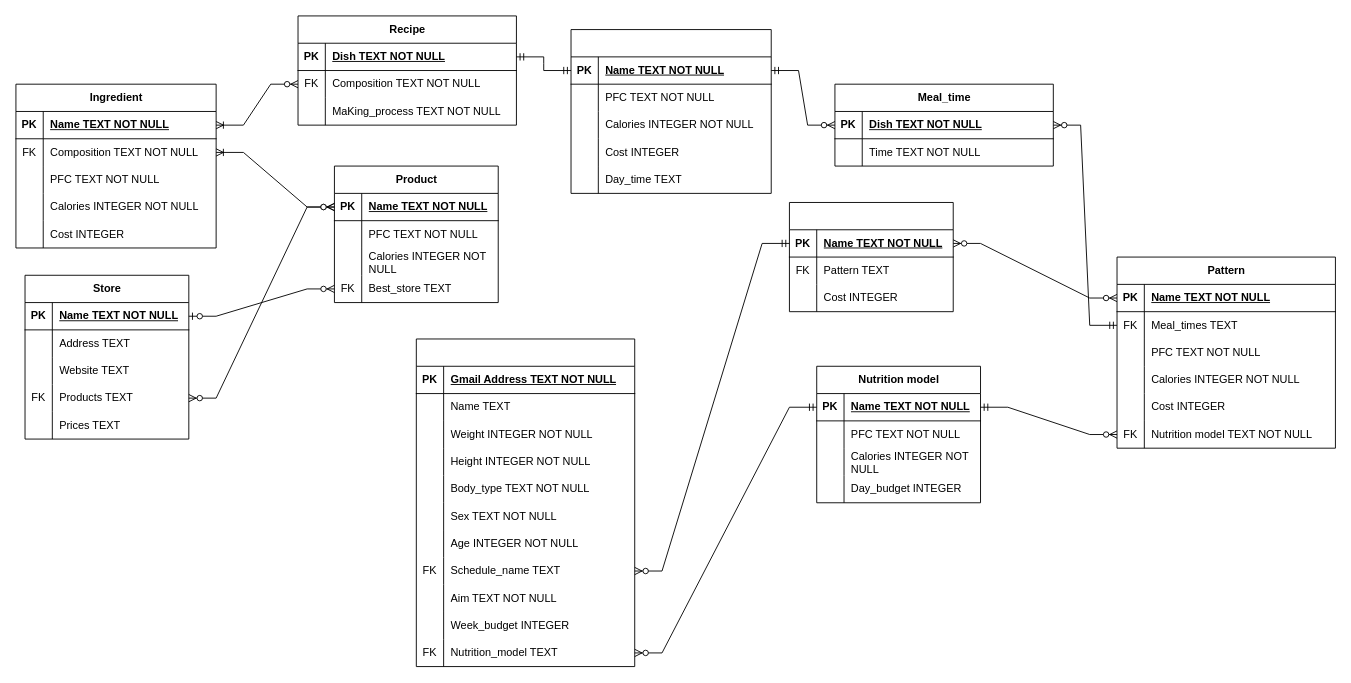
Some shapes in this 1351 by 683 pixel diagram are drawn without their labels. The shapes that lost their labels are listed below. From the top down, each one's box as (x1, y1, x2, y2) in pixels, then its label:
(570, 29, 771, 193): Dish
(789, 202, 953, 312): Schedule
(415, 338, 635, 667): User
